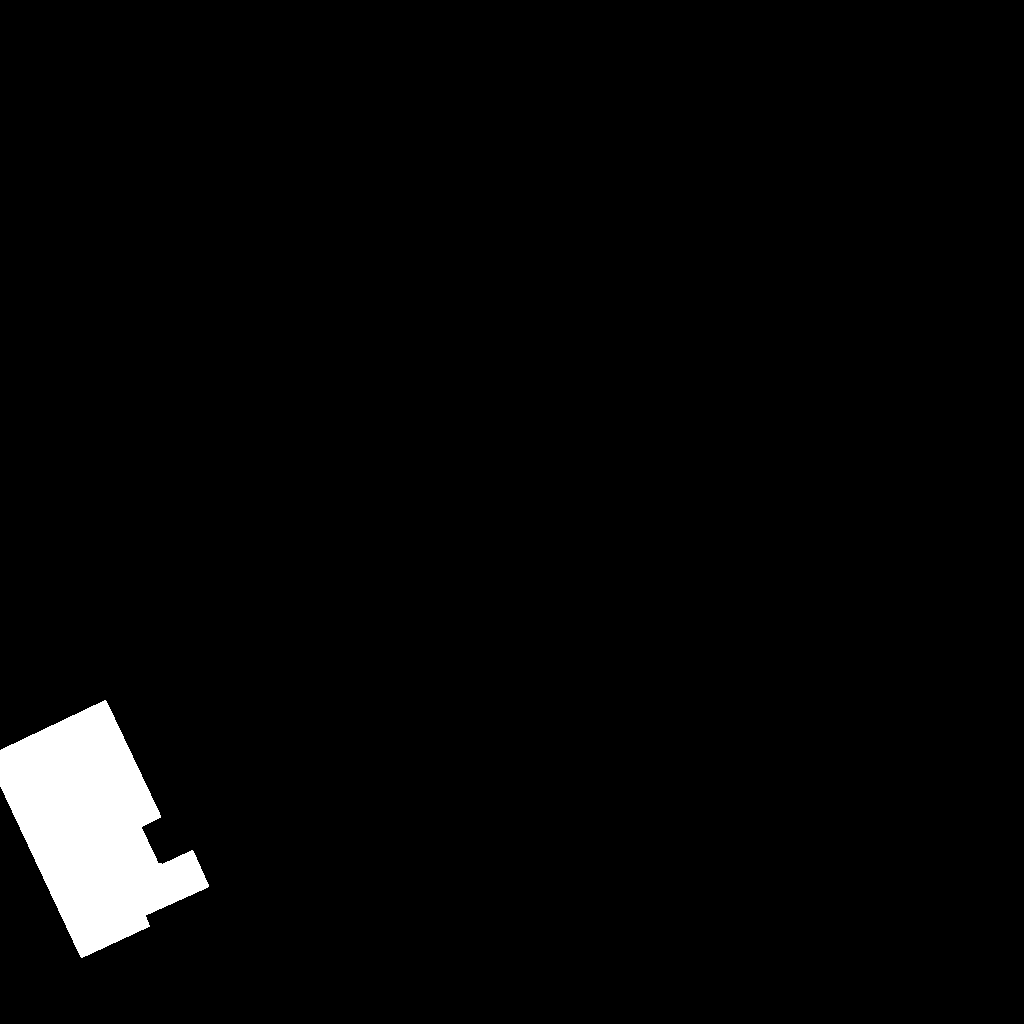building: (0, 700, 210, 959)
